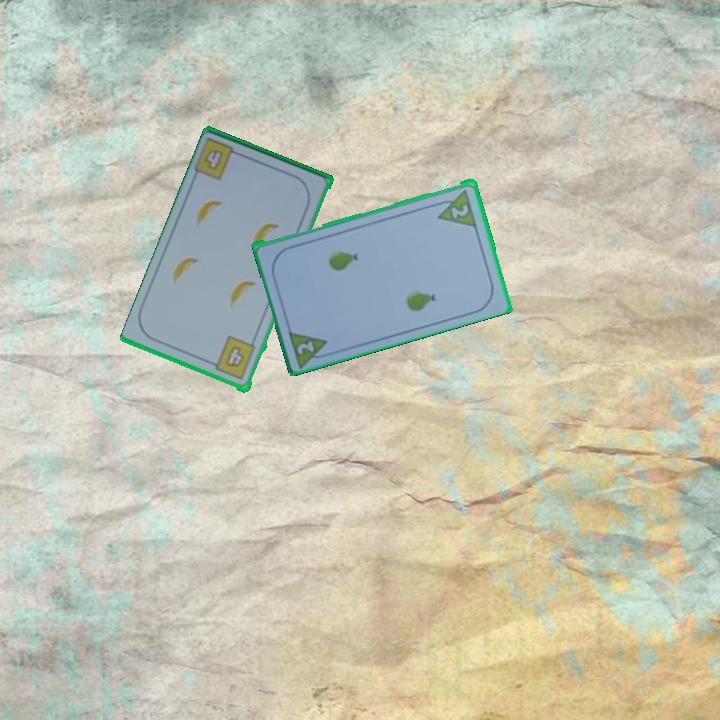2p: (448, 200, 472, 221), (293, 337, 318, 357)
4b: (192, 135, 246, 184), (207, 333, 258, 383)
